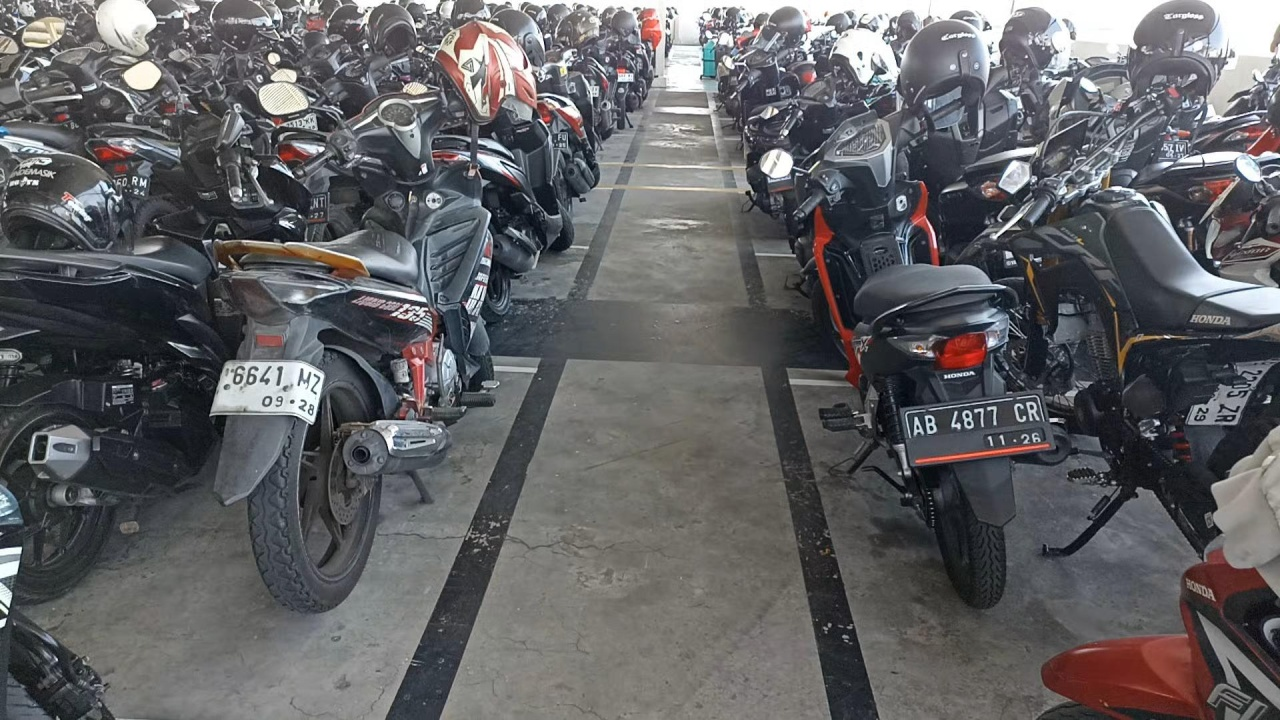plate: (903, 395, 1052, 464), (209, 361, 325, 425)
